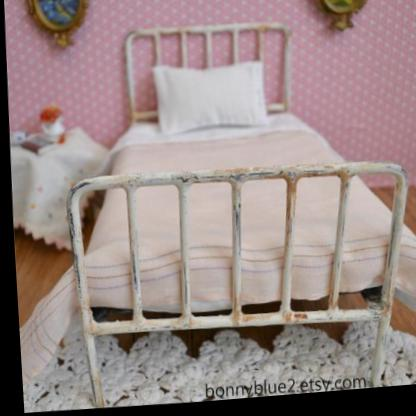Bed: (53, 16, 415, 413)
